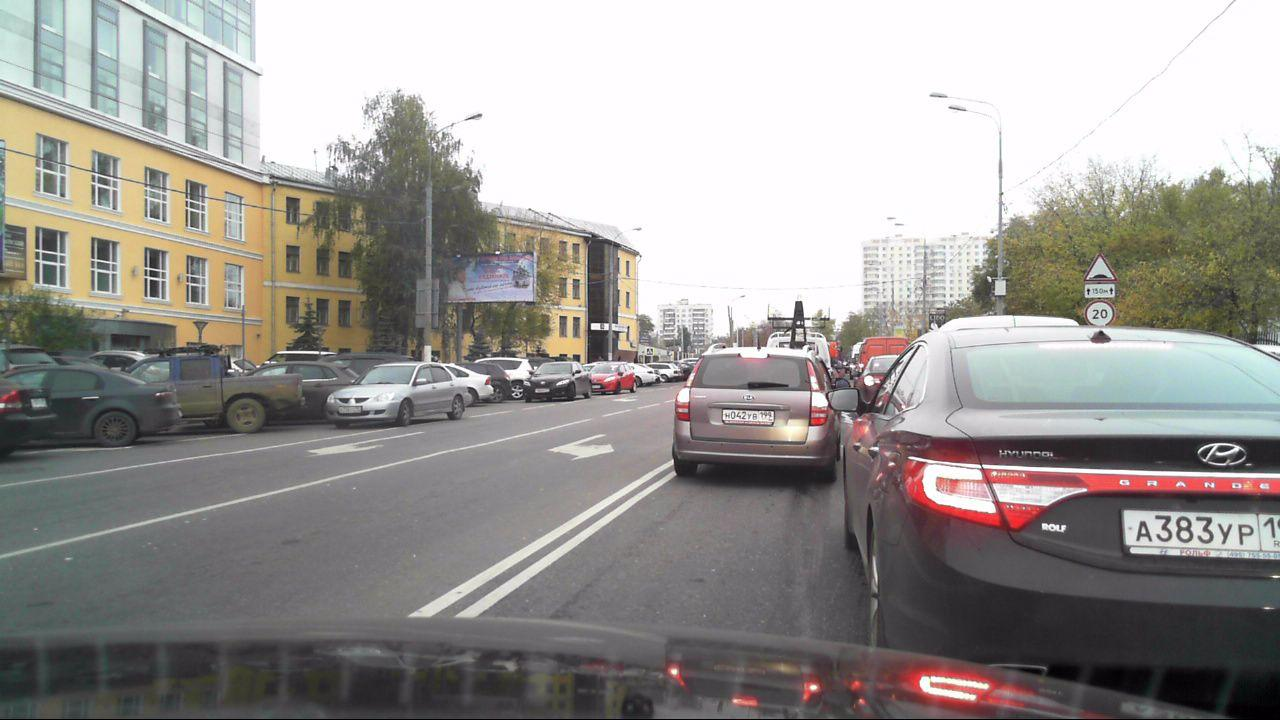road_sign: (1082, 249, 1122, 282), (1082, 296, 1118, 325), (1084, 282, 1115, 297)
